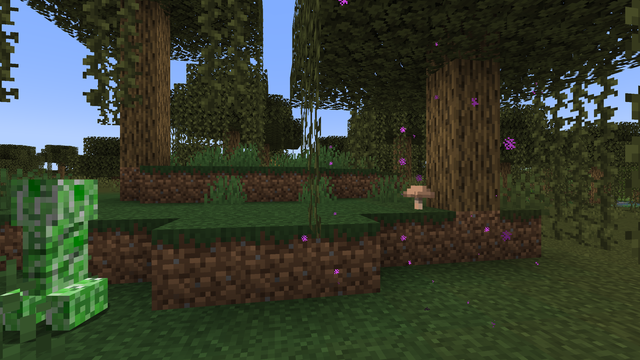creepers: (0, 172, 103, 335)
